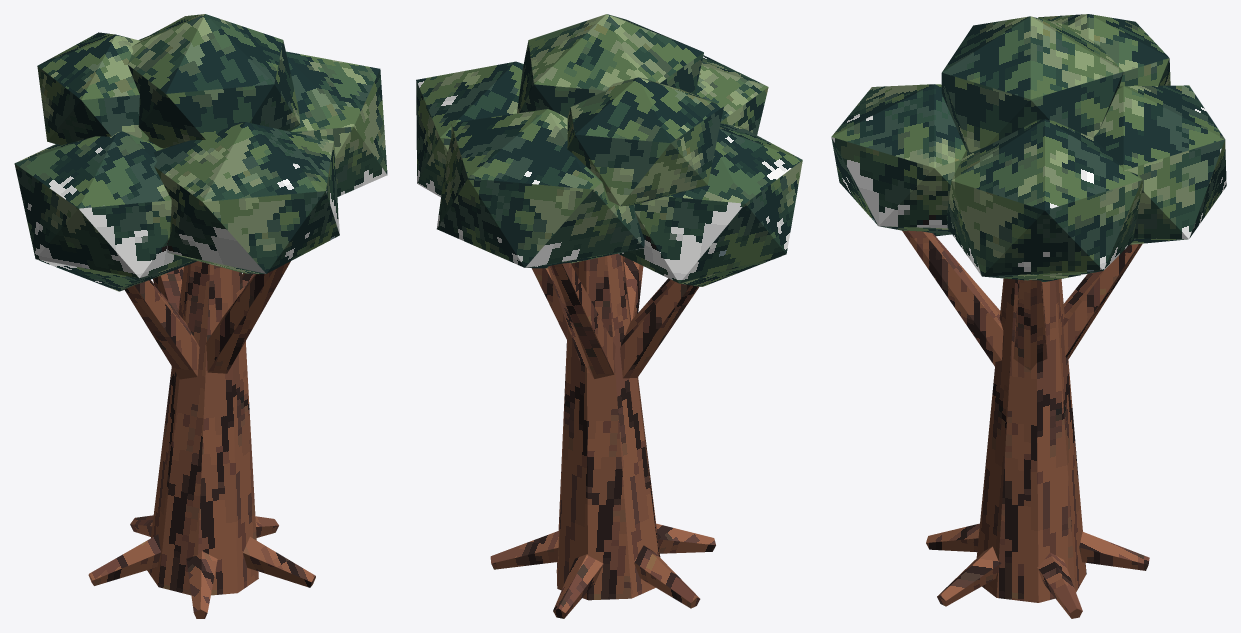
File: arvore_jovem.fbx
3 renders of one model, left to right at view 1: azimuth 30°, elevation 25°; view 2: azimuth 150°, elevation 25°; view 3: azimuth 270°, elevation 25°, orthographic.
Visible parts, largest first — view 1: bosque_arvore_jovem; view 2: bosque_arvore_jovem; view 3: bosque_arvore_jovem.
Part boxes in pixels (box(x1,y1,x2,y2)): bosque_arvore_jovem: box(14, 14, 387, 618); bosque_arvore_jovem: box(416, 14, 802, 618); bosque_arvore_jovem: box(831, 14, 1226, 618).
Size of the model in its own units: 102 by 154 by 97.72.
2 materials, 2 textured.
